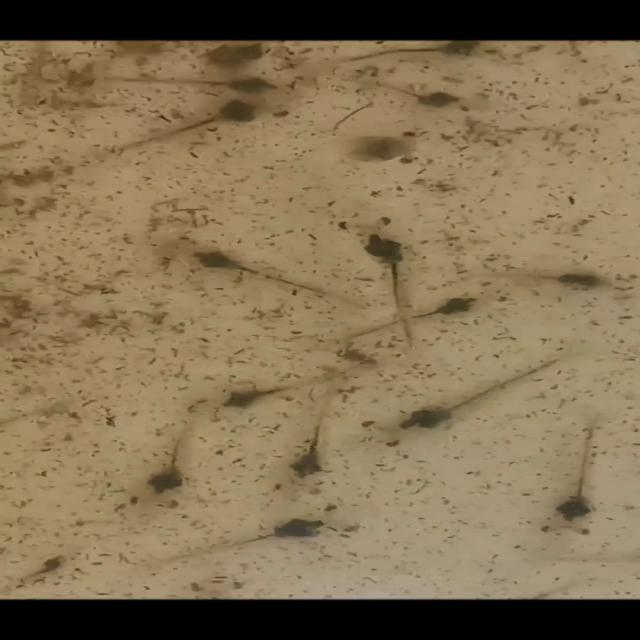shrimp: (150, 228, 367, 319), (380, 346, 579, 440), (141, 496, 350, 575), (318, 206, 428, 348), (229, 123, 447, 186), (340, 272, 526, 344), (105, 92, 292, 162), (526, 414, 618, 548), (117, 405, 223, 502), (283, 376, 367, 497), (187, 360, 367, 416), (338, 75, 492, 123), (313, 40, 506, 74), (441, 262, 619, 296), (102, 70, 296, 101)
